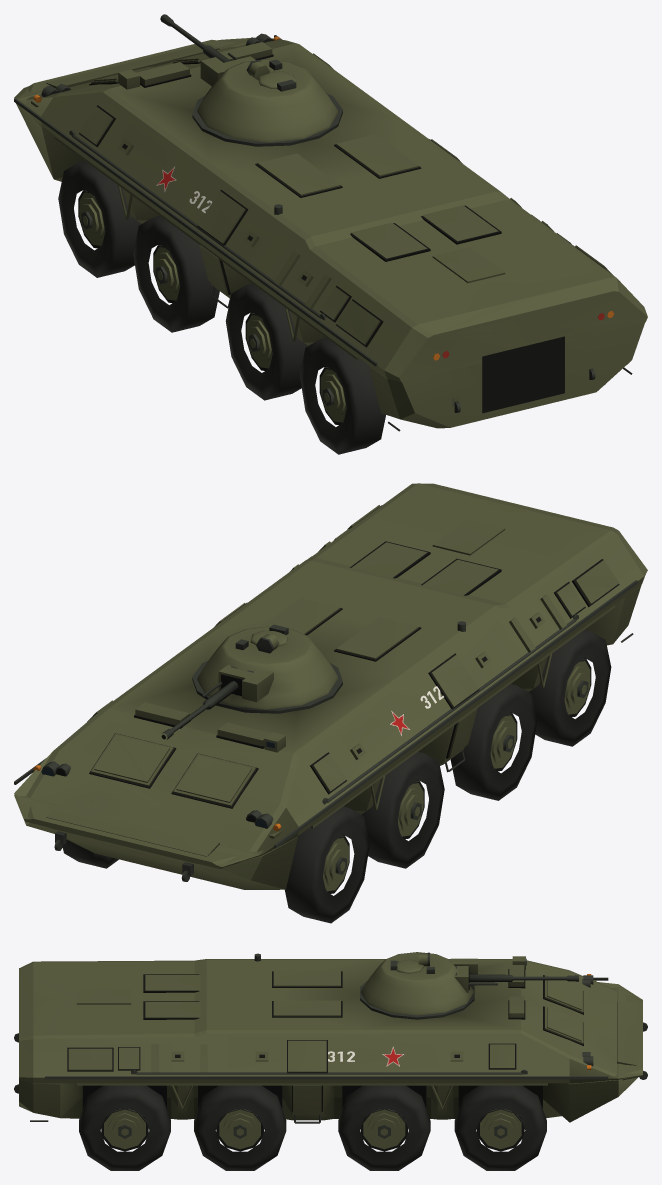
The model's file is btr70_lod1.glb.
3 renders of one model, top to bottom at view 1: azimuth 30°, elevation 25°; view 2: azimuth 150°, elevation 25°; view 3: azimuth 270°, elevation 25°, orthographic. The views are drawn at different scales.
Visible parts, largest first — view 1: Hull_BTR70_Paint, LeftTrack_Motion_BTR70_Rubber, TurretYaw_BTR70_Paint, Hull_BTR70_Cavity, Hull_BTR70_DarkSteel, LeftTrack_Motion_BTR70_Paint, LeftTrack_Motion_BTR70_DarkSteel; view 2: Hull_BTR70_Paint, LeftTrack_Motion_BTR70_Rubber, TurretYaw_BTR70_Paint, Hull_BTR70_DarkSteel, LeftTrack_Motion_BTR70_Paint, Hull_BTR70_Cavity, GunPitch_BTR70_Paint, RightTrack_Motion_BTR70_Rubber, BarrelRecoil_BTR70_DarkSteel, LeftTrack_Motion_BTR70_DarkSteel; view 3: Hull_BTR70_Paint, RightTrack_Motion_BTR70_Rubber, TurretYaw_BTR70_Paint, RightTrack_Motion_BTR70_Paint, Hull_BTR70_DarkSteel, Hull_BTR70_Cavity, RightTrack_Motion_BTR70_Cavity, BarrelRecoil_BTR70_DarkSteel, RightTrack_Motion_BTR70_DarkSteel.
Part boxes in pixels (box(x1,y1,x2,y2)): Hull_BTR70_Paint: box(14, 37, 647, 428); LeftTrack_Motion_BTR70_Rubber: box(58, 161, 385, 454); TurretYaw_BTR70_Paint: box(197, 56, 338, 142); Hull_BTR70_Cavity: box(79, 54, 603, 413); Hull_BTR70_DarkSteel: box(14, 33, 632, 431); LeftTrack_Motion_BTR70_Paint: box(79, 192, 346, 422); LeftTrack_Motion_BTR70_DarkSteel: box(81, 190, 344, 423); Hull_BTR70_Paint: box(14, 483, 647, 889); LeftTrack_Motion_BTR70_Rubber: box(285, 630, 611, 923); TurretYaw_BTR70_Paint: box(197, 626, 338, 709); Hull_BTR70_DarkSteel: box(14, 580, 637, 881); LeftTrack_Motion_BTR70_Paint: box(323, 661, 590, 891); Hull_BTR70_Cavity: box(56, 505, 619, 822); GunPitch_BTR70_Paint: box(242, 669, 273, 702); RightTrack_Motion_BTR70_Rubber: box(62, 840, 118, 868); BarrelRecoil_BTR70_DarkSteel: box(162, 681, 238, 739); LeftTrack_Motion_BTR70_DarkSteel: box(325, 659, 588, 892); Hull_BTR70_Paint: box(19, 956, 642, 1122); RightTrack_Motion_BTR70_Rubber: box(79, 1085, 546, 1170); TurretYaw_BTR70_Paint: box(361, 952, 473, 1015); RightTrack_Motion_BTR70_Paint: box(104, 1109, 521, 1149); Hull_BTR70_DarkSteel: box(14, 953, 647, 1123); Hull_BTR70_Cavity: box(67, 969, 583, 1111); RightTrack_Motion_BTR70_Cavity: box(101, 1109, 524, 1151); BarrelRecoil_BTR70_DarkSteel: box(469, 974, 578, 982); RightTrack_Motion_BTR70_DarkSteel: box(103, 1109, 521, 1138).
Bounding box in the file's own units: 2.8 × 2.19 × 7.54.
8 materials, 1 textured.
